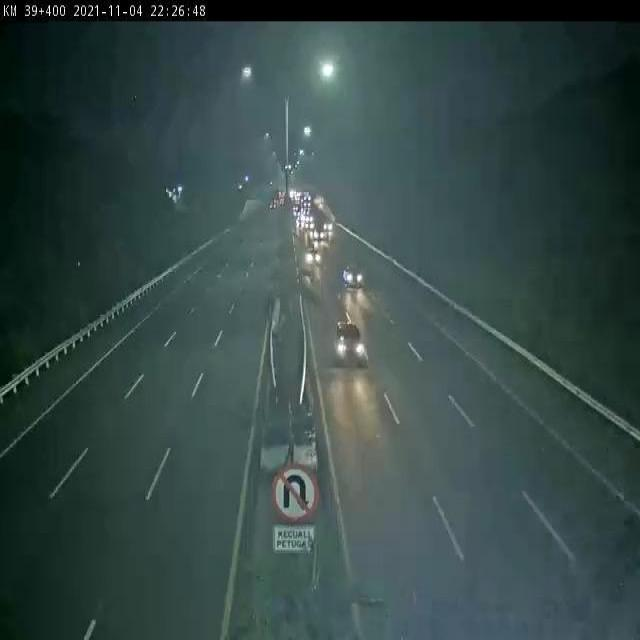car: (328, 317, 376, 368)
